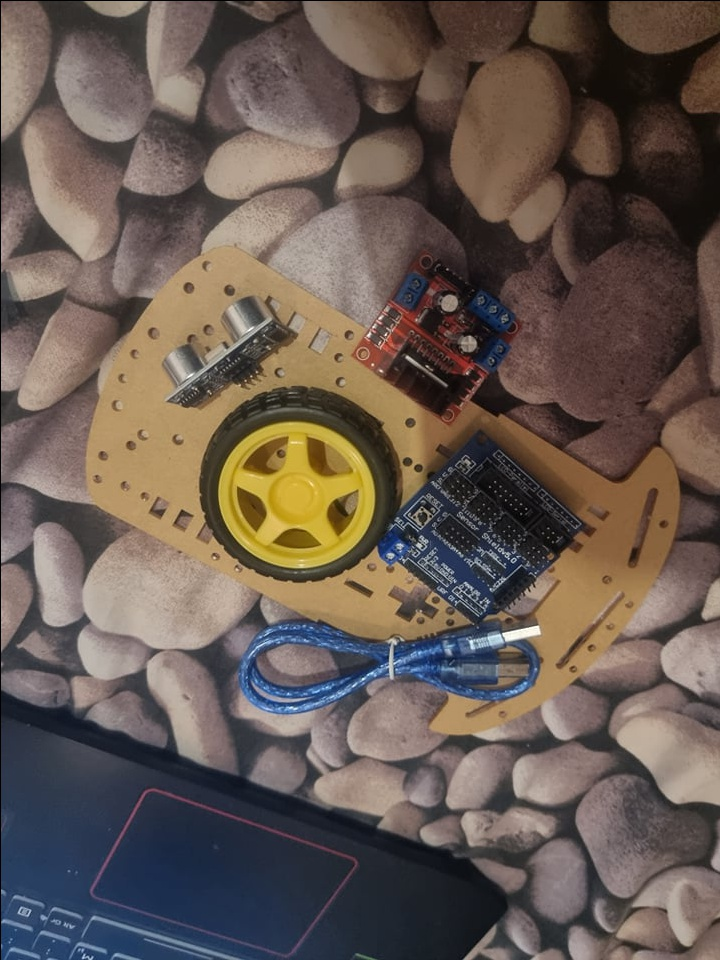5V EXPANSION: (377, 425, 589, 625)
MOTOR: (349, 247, 521, 423)
SENSOR: (160, 293, 290, 408)
